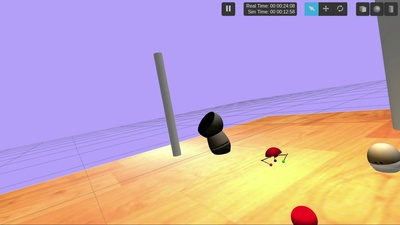mira_robot: (366, 143, 400, 173)
